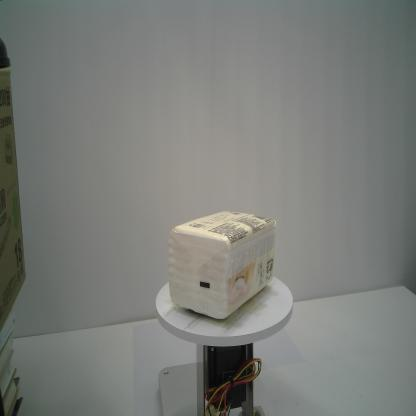Tissue: (168, 210, 277, 321)
